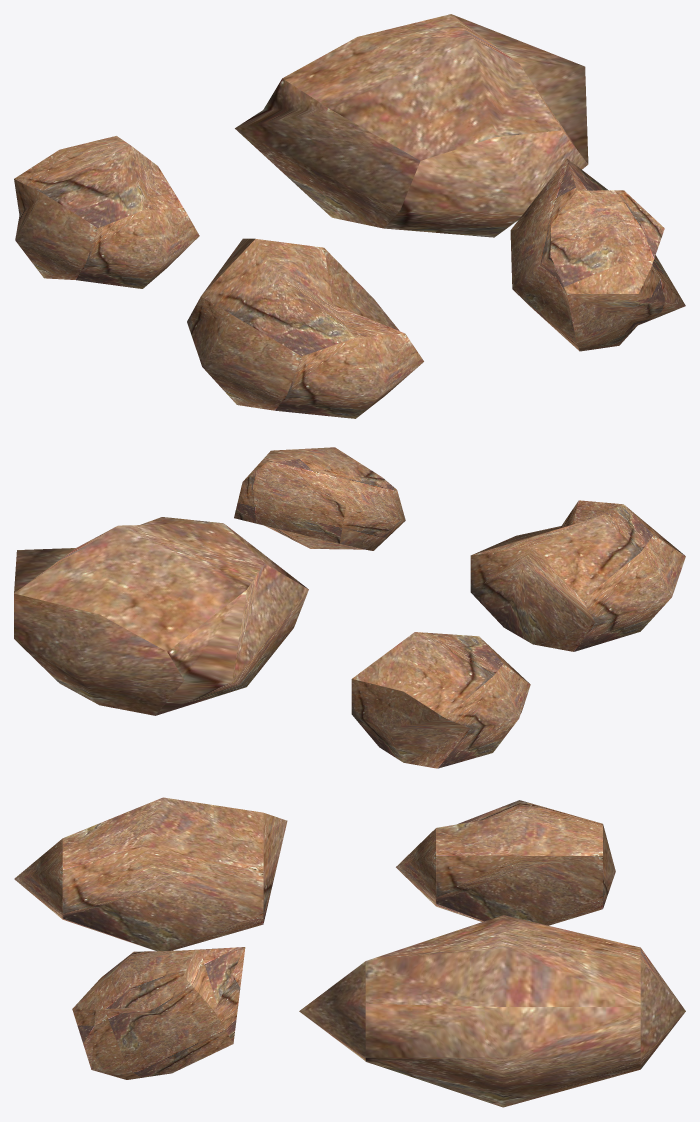
The model's file is zirantong.FBX.
3 renders of one model, top to bottom at view 1: azimuth 30°, elevation 25°; view 2: azimuth 150°, elevation 25°; view 3: azimuth 270°, elevation 25°, orthographic. The views are drawn at different scales.
Parts seen in each view (by area): view 1: Box003, Box004, Box005, Box002; view 2: Box003, Box004, Box002, Box005; view 3: Box003, Box004, Box002, Box005.
Part boxes in pixels (left/top/right/bottom): Box003: left=235, top=14, right=588, bottom=237; Box004: left=187, top=238, right=423, bottom=418; Box005: left=510, top=158, right=685, bottom=351; Box002: left=14, top=136, right=199, bottom=288; Box003: left=14, top=517, right=308, bottom=715; Box004: left=470, top=500, right=685, bottom=651; Box002: left=351, top=632, right=530, bottom=768; Box005: left=234, top=447, right=405, bottom=550; Box003: left=299, top=915, right=685, bottom=1107; Box004: left=14, top=797, right=287, bottom=951; Box002: left=396, top=800, right=615, bottom=925; Box005: left=72, top=947, right=245, bottom=1079.
Bounding box in the file's own units: 28.18 × 7.22 × 29.11.
